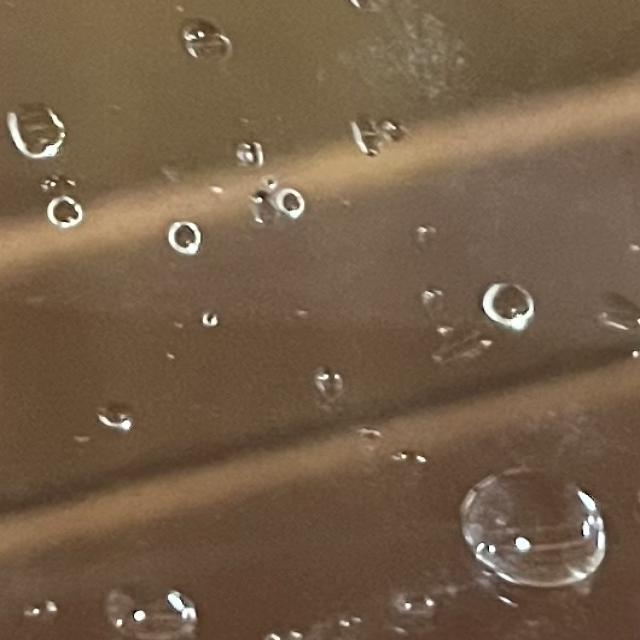raindrop: (455, 458, 608, 596), (92, 577, 215, 628), (465, 257, 549, 324), (4, 93, 75, 164), (144, 189, 213, 260), (176, 11, 255, 70), (393, 564, 455, 628), (245, 178, 321, 229), (43, 196, 94, 246), (92, 397, 148, 442), (345, 113, 388, 171), (231, 123, 276, 172), (305, 356, 350, 397), (414, 280, 458, 319), (372, 105, 413, 145), (185, 297, 224, 331), (15, 595, 55, 628), (264, 619, 323, 640), (346, 0, 390, 21)
